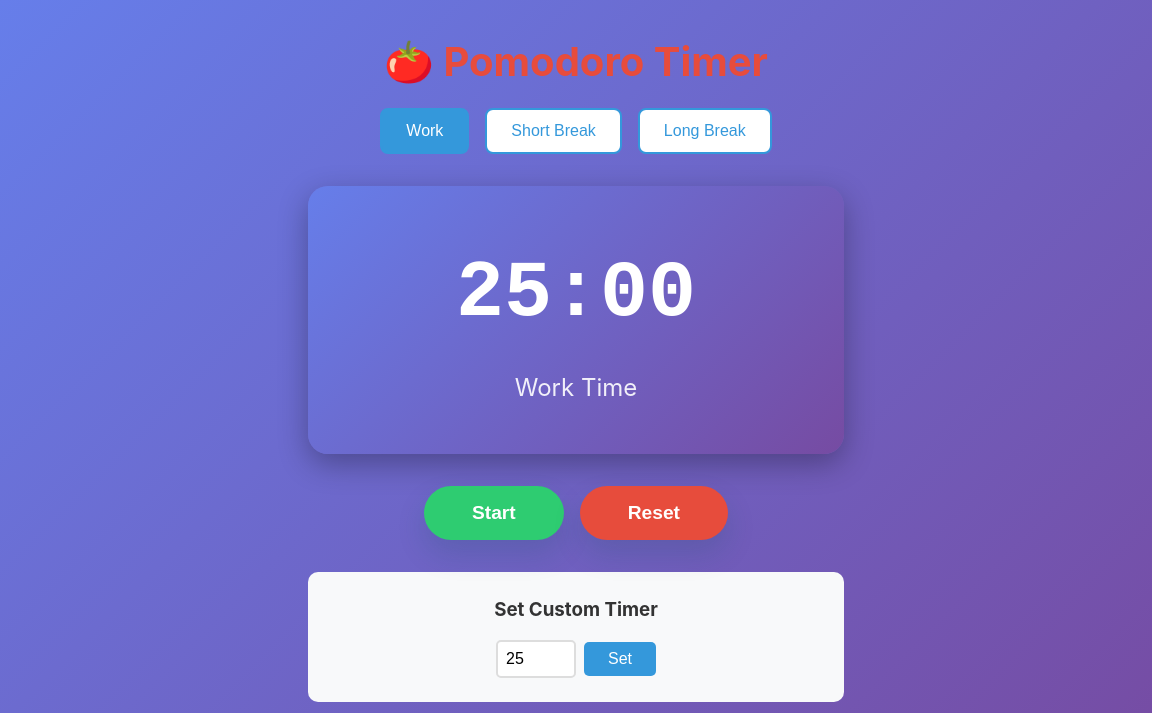
Test: PomodoroTimer break reminders › supports skip break and records analytics action
Replace the text in the number field with "1" at (536, 659), box [496,640,576,678]
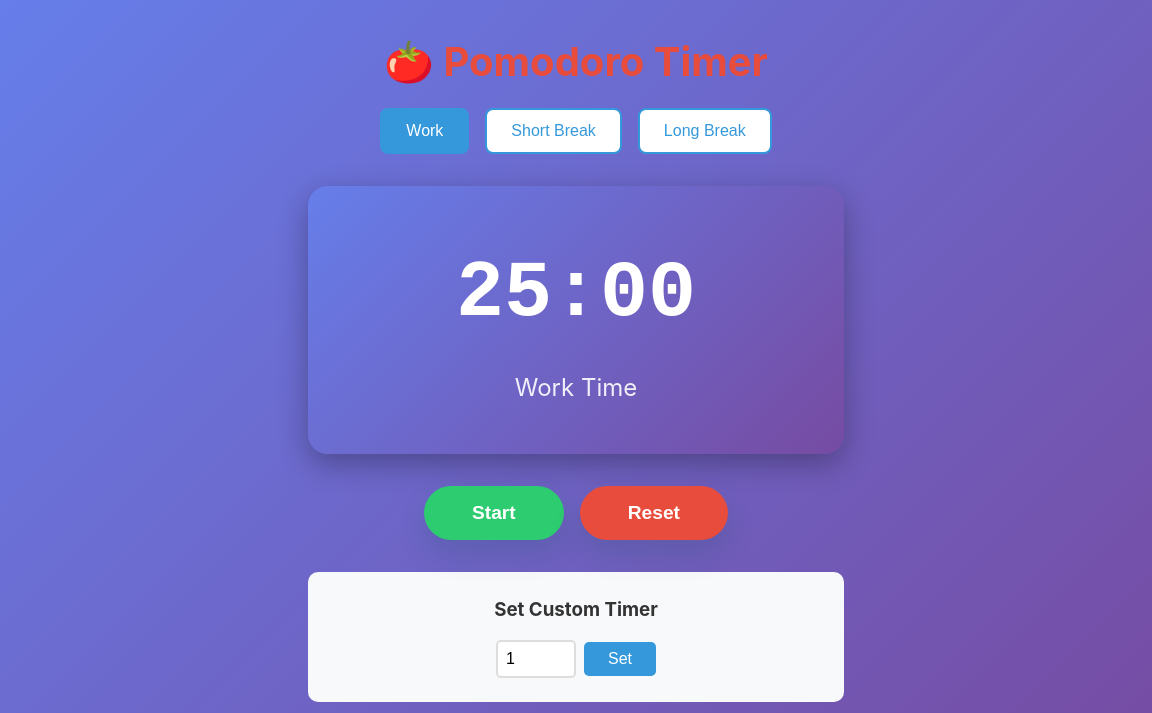
Click the button "Set" at (620, 659), box [584,642,656,676]
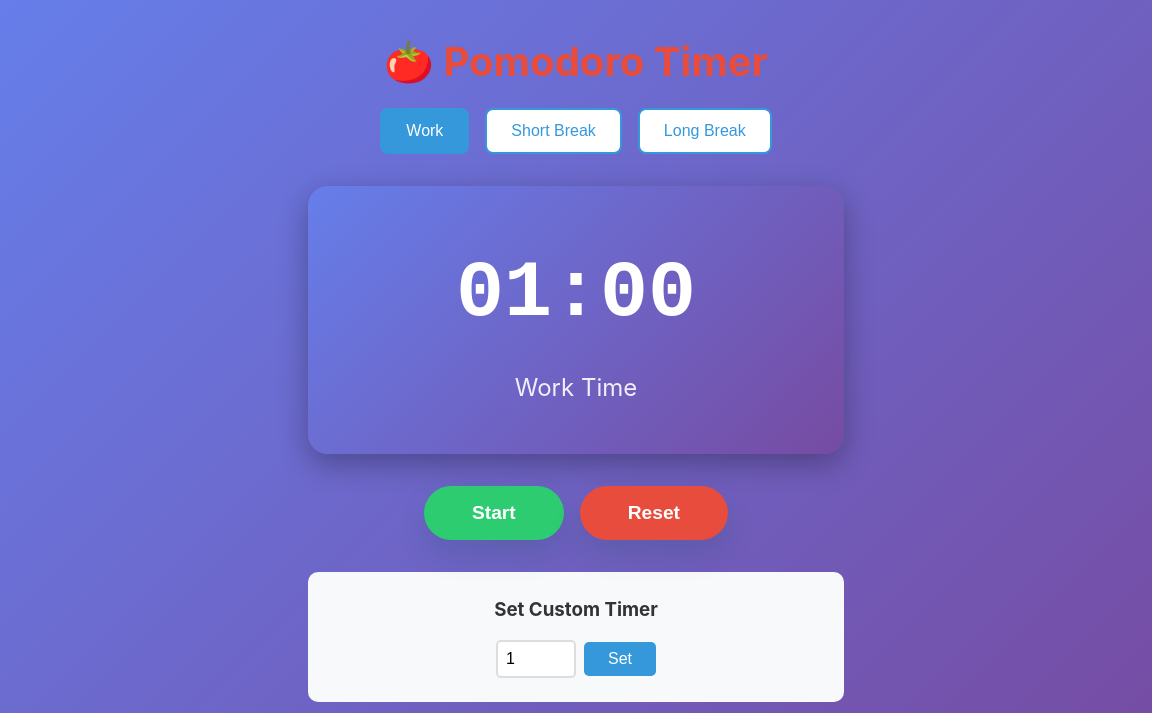
Click the button "Start" at (494, 513), box [424,486,564,540]
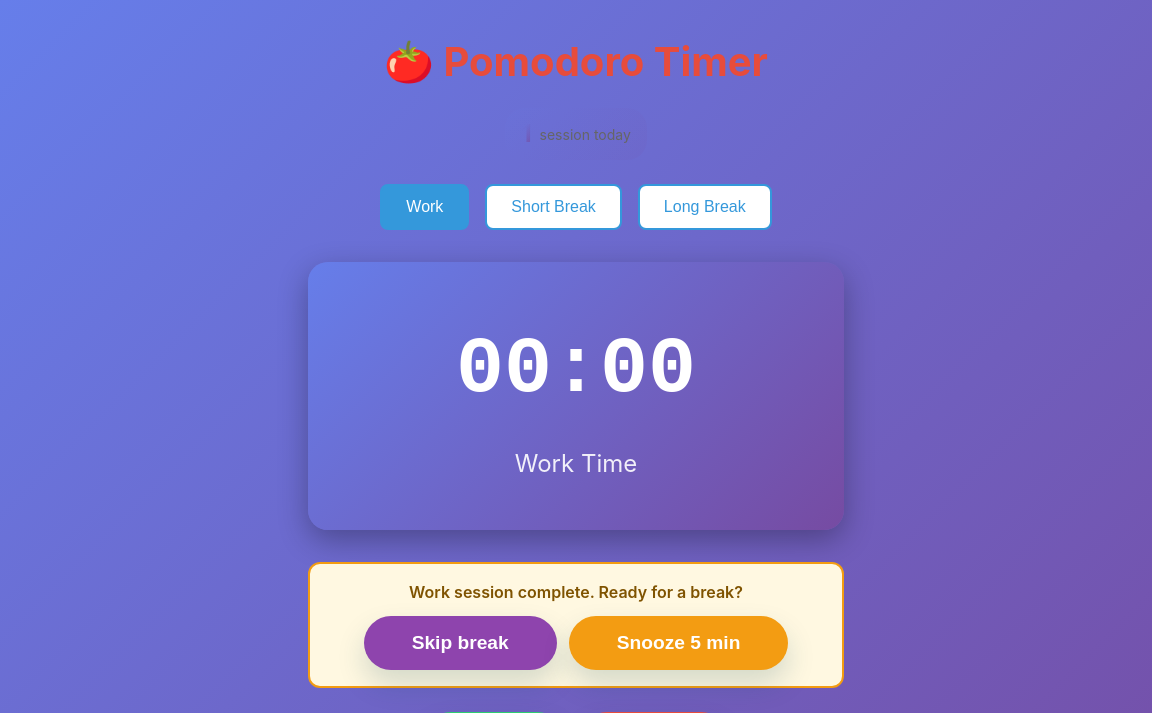
Click the button "Skip break" at (460, 643), box [364,616,557,670]
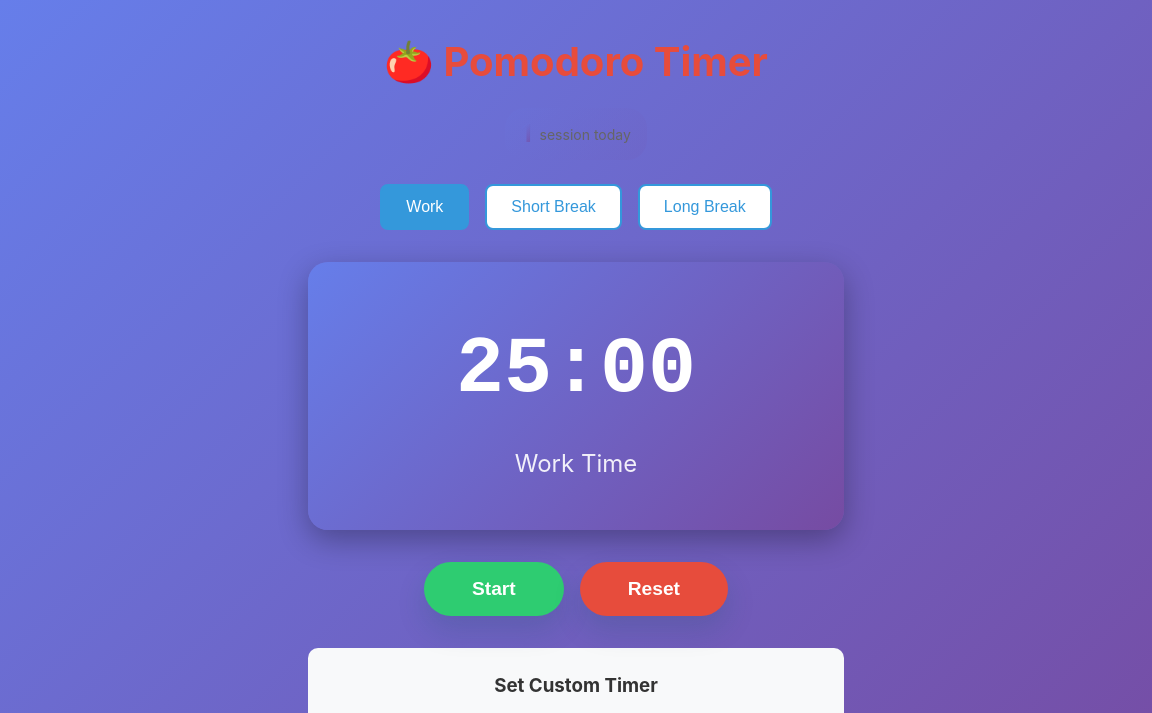
expect the text "Work session complete. Ready for a break?" is gone: met
expect the text "25:00" is shown: met, box [456,324,696,415]
